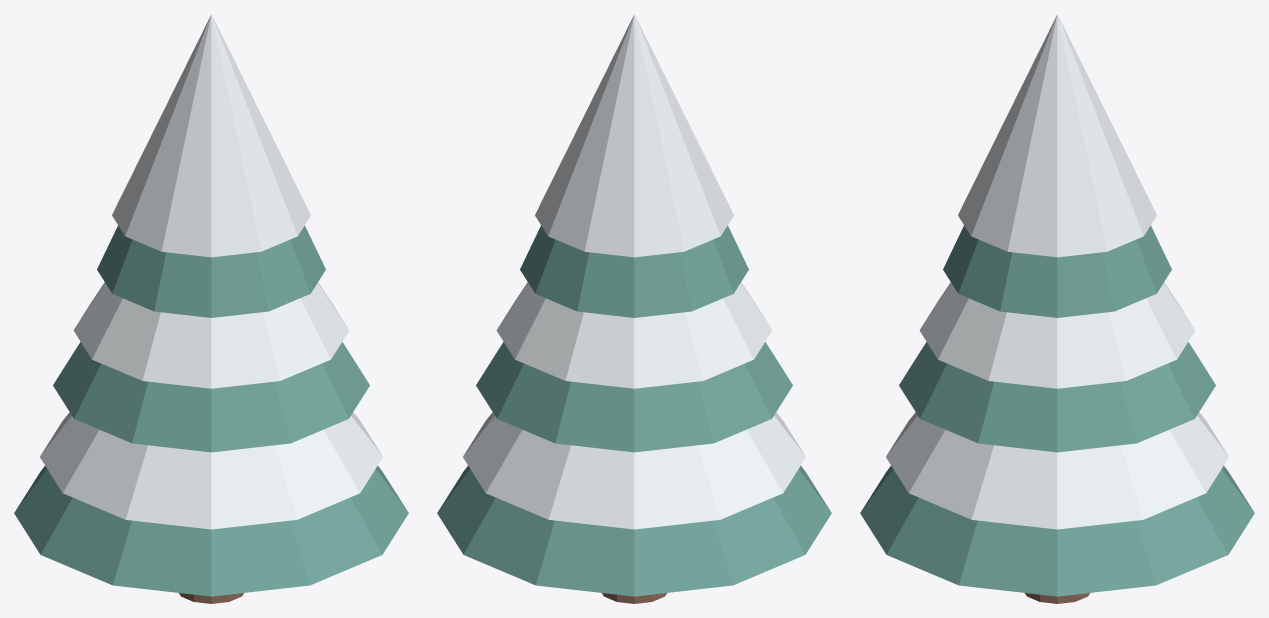
Rendered from pine.glb.
3 views of the same model, side by side, from view 1: azimuth 30°, elevation 25°; view 2: azimuth 150°, elevation 25°; view 3: azimuth 270°, elevation 25° (orthographic).
Visible parts, largest first — view 1: Evergreen tier, Snow cap.002, Snow cap, Evergreen tier.001, Snow cap.001, Evergreen tier.002; view 2: Evergreen tier, Snow cap.002, Snow cap, Evergreen tier.001, Snow cap.001, Evergreen tier.002; view 3: Evergreen tier, Snow cap.002, Snow cap, Evergreen tier.001, Snow cap.001, Evergreen tier.002.
Boxes of the visible parts, x1,y1,x2,y2 form: Evergreen tier: (14,466,408,596); Snow cap.002: (112,14,310,257); Snow cap: (40,412,382,529); Evergreen tier.001: (53,342,369,452); Snow cap.001: (73,282,349,388); Evergreen tier.002: (97,225,325,317); Evergreen tier: (437,466,831,596); Snow cap.002: (535,14,733,257); Snow cap: (463,412,805,529); Evergreen tier.001: (476,342,792,452); Snow cap.001: (496,282,772,388); Evergreen tier.002: (520,225,748,317); Evergreen tier: (860,466,1254,596); Snow cap.002: (958,14,1156,257); Snow cap: (886,412,1228,529); Evergreen tier.001: (899,342,1215,452); Snow cap.001: (919,282,1195,388); Evergreen tier.002: (943,225,1171,317).
Bounding box in the file's own units: 2.24 × 3.6 × 2.24.
